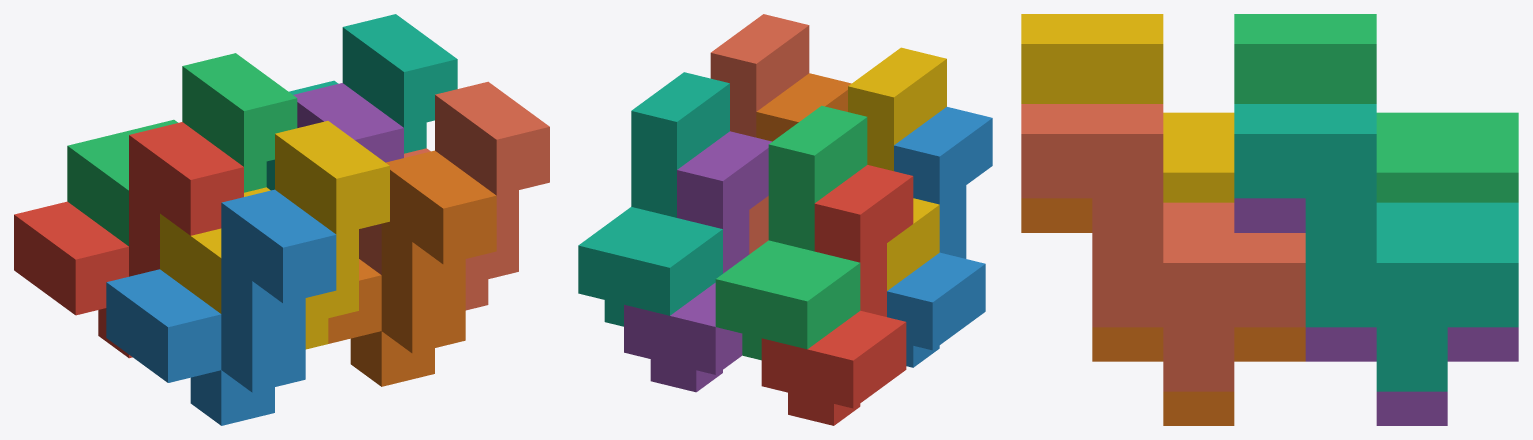
The model's file is tiling.obj.
3 renders of one model, left to right at view 1: azimuth 30°, elevation 25°; view 2: azimuth 150°, elevation 25°; view 3: azimuth 270°, elevation 25°, orthographic. The views are drawn at different scales.
Visible parts, largest first — view 1: copy_1_domain_2, copy_1_domain_6, copy_1_domain_1, copy_1_domain_4, copy_1_domain_3, copy_1_domain_8, copy_1_domain_7, copy_1_domain_5; view 2: copy_1_domain_3, copy_1_domain_7, copy_1_domain_1, copy_1_domain_5, copy_1_domain_2, copy_1_domain_4, copy_1_domain_8, copy_1_domain_6; view 3: copy_1_domain_7, copy_1_domain_8, copy_1_domain_3, copy_1_domain_4, copy_1_domain_5, copy_1_domain_6.
Part boxes in pixels (x1=…): copy_1_domain_2: x1=106, y1=189, x2=336, y2=425; copy_1_domain_6: x1=328, y1=150, x2=496, y2=386; copy_1_domain_1: x1=14, y1=122, x2=243, y2=358; copy_1_domain_4: x1=160, y1=121, x2=389, y2=349; copy_1_domain_3: x1=67, y1=53, x2=297, y2=246; copy_1_domain_8: x1=359, y1=81, x2=549, y2=310; copy_1_domain_7: x1=266, y1=14, x2=457, y2=190; copy_1_domain_5: x1=293, y1=83, x2=403, y2=162; copy_1_domain_3: x1=715, y1=105, x2=867, y2=360; copy_1_domain_7: x1=578, y1=72, x2=729, y2=326; copy_1_domain_1: x1=761, y1=165, x2=913, y2=425; copy_1_domain_5: x1=624, y1=131, x2=771, y2=392; copy_1_domain_2: x1=887, y1=107, x2=992, y2=367; copy_1_domain_4: x1=848, y1=47, x2=946, y2=290; copy_1_domain_8: x1=710, y1=14, x2=809, y2=254; copy_1_domain_6: x1=756, y1=73, x2=851, y2=141; copy_1_domain_7: x1=1234, y1=104, x2=1518, y2=391; copy_1_domain_8: x1=1021, y1=104, x2=1305, y2=391; copy_1_domain_3: x1=1234, y1=14, x2=1518, y2=202; copy_1_domain_4: x1=1021, y1=14, x2=1234, y2=202; copy_1_domain_5: x1=1234, y1=198, x2=1518, y2=425; copy_1_domain_6: x1=1021, y1=198, x2=1305, y2=425.
Bounding box in the file's own units: 6 × 5 × 7.
